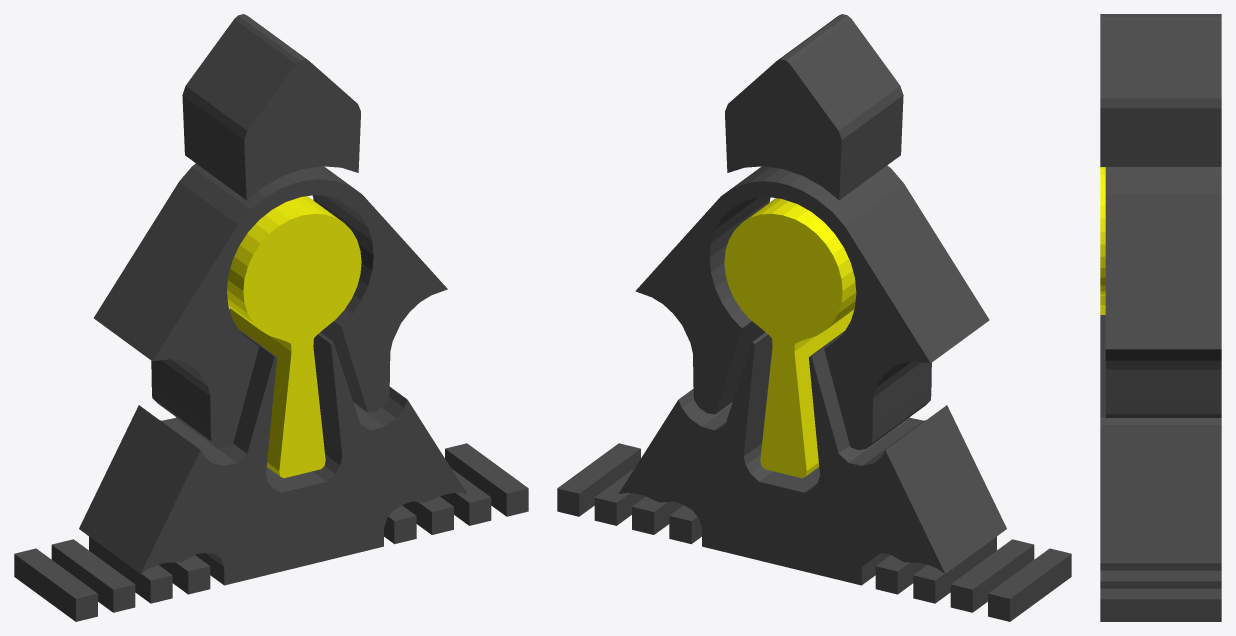
Rendered from metka1.dae.
3 renders of one model, left to right at view 1: azimuth 30°, elevation 25°; view 2: azimuth 150°, elevation 25°; view 3: azimuth 270°, elevation 25°, orthographic.
Visible parts, largest first — view 1: Grey, Yellow; view 2: Grey, Yellow; view 3: Grey, Yellow.
Part boxes in pixels (bbox=[...]): Grey: bbox=[14, 14, 528, 621]; Yellow: bbox=[227, 196, 361, 478]; Grey: bbox=[557, 14, 1071, 621]; Yellow: bbox=[724, 198, 856, 478]; Grey: bbox=[1100, 14, 1221, 621]; Yellow: bbox=[1100, 167, 1105, 314].
Size of the model in its own units: 2.87 by 0.6789 by 3.07.
